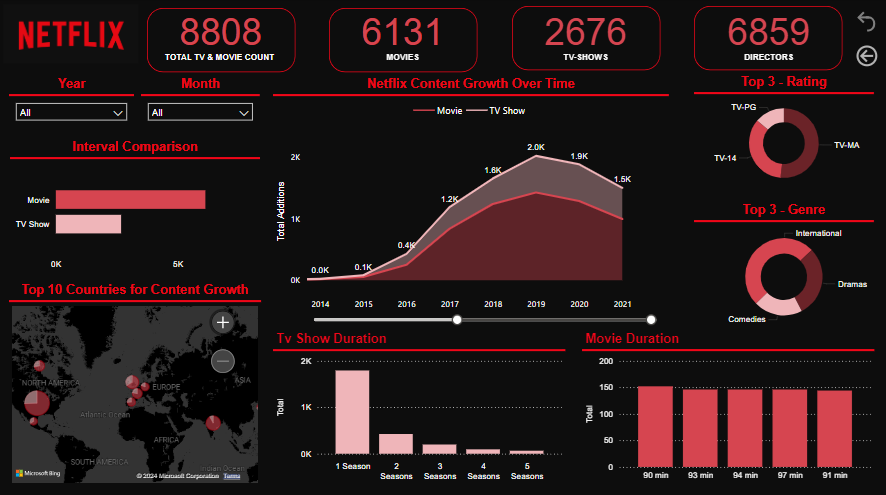

The page's visual inventory and layout, read from the dashboard file:
{"tool":"powerbi","page":{"name":"Page 1","canvas":[1280,720],"ordinal":0},"visuals":[{"type":"clusteredBarChart","title":"Interval Comparison","fields":{"Category":["netflix_titles.Type"],"Y":["CountNonNull(netflix_titles.Title)"]},"box":[15,203.8,360,196.2],"z":0},{"type":"slicer","title":"Year","fields":{"Values":["netflix_titles.Date_Added_Year"]},"box":[12.5,112.5,180,76.2],"z":1000},{"type":"slicer","title":"Month","fields":{"Values":["netflix_titles.Date_Added_Month"]},"box":[203.8,112.5,171.2,82.5],"z":2000},{"type":"shape","box":[0,0,1280,103.8],"z":3000},{"type":"image","box":[0,0,203.8,103.8],"z":4000},{"type":"stackedAreaChart","title":"Netflix Content Growth Over Time","fields":{"Y":["CountNonNull(netflix_titles.Type)"],"Category":["netflix_titles.Date_Added_Year"],"Series":["netflix_titles.Type"]},"box":[393.8,112.5,570,362.5],"z":5000},{"type":"shape","box":[211.2,13.8,213.8,92.5],"z":6000},{"type":"actionButton","box":[1228.8,13.8,38.8,38.8],"z":7000},{"type":"donutChart","title":"Top 3 - Rating ","fields":{"Category":["netflix_titles.Rating"],"Y":["CountNonNull(netflix_titles.Type)"]},"box":[1000,110,258.8,170],"z":8000},{"type":"donutChart","title":"Top 3 - Genre","fields":{"Y":["CountNonNull(netflix_genre.Genre)"],"Category":["netflix_genre.Genre"]},"box":[1000,293.8,258.8,186.2],"z":9000},{"type":"map","title":"Top 10 Countries for Content Growth","fields":{"Category":["netflix_country.Country"],"Size":["CountNonNull(netflix_country.Country)"],"Series":["netflix_titles.Type"]},"box":[12.5,408.8,362.5,295],"z":10000},{"type":"columnChart","title":"Tv Show Duration","fields":{"Category":["netflix_titles.Duration"],"Y":["CountNonNull(netflix_titles.Type)"]},"box":[393.8,480,421.2,223.8],"z":11000},{"type":"columnChart","title":"Movie Duration","fields":{"Category":["netflix_titles.Duration"],"Y":["CountNonNull(netflix_titles.Type)"]},"box":[837.5,480,421.2,223.8],"z":12000},{"type":"actionButton","box":[1228.8,63.8,40,40],"z":13000},{"type":"card","fields":{"Values":["Measures_Repository.Total_Titles"]},"box":[226.2,0,183.8,103.8],"z":14000},{"type":"shape","box":[474.2,13.8,213.8,92.5],"z":15000},{"type":"shape","box":[737.1,11.2,213.8,92.5],"z":16000},{"type":"shape","box":[1000,11.2,213.8,92.5],"z":17000},{"type":"card","fields":{"Values":["Measures_Repository.Total_Titles"]},"box":[488.8,0,183.8,103.8],"z":18000},{"type":"card","fields":{"Values":["Measures_Repository.Total_Titles"]},"box":[751.2,0,183.8,103.8],"z":19000},{"type":"card","fields":{"Values":["Measures_Repository.Total_Directors"]},"box":[1015,0,183.8,103.8],"z":20000}]}

Visuals, with their boxes in screenshot pixels (x1, y1, x2, y2), scaled from the page's 1280x720 canvas onto the 886x495 screenshot:
"Interval Comparison" clusteredBarChart: <box>10,140,260,275</box>
"Year" slicer: <box>9,77,133,130</box>
"Month" slicer: <box>141,77,260,134</box>
shape: <box>0,0,885,71</box>
image: <box>0,0,141,71</box>
"Netflix Content Growth Over Time" stackedAreaChart: <box>273,77,667,327</box>
shape: <box>146,9,294,73</box>
actionButton: <box>851,9,877,36</box>
"Top 3 - Rating " donutChart: <box>692,76,871,192</box>
"Top 3 - Genre" donutChart: <box>692,202,871,330</box>
"Top 10 Countries for Content Growth" map: <box>9,281,260,484</box>
"Tv Show Duration" columnChart: <box>273,330,564,484</box>
"Movie Duration" columnChart: <box>580,330,871,484</box>
actionButton: <box>851,44,878,71</box>
card - Measures_Repository.Total_Titles: <box>157,0,284,71</box>
shape: <box>328,9,476,73</box>
shape: <box>510,8,658,71</box>
shape: <box>692,8,840,71</box>
card - Measures_Repository.Total_Titles: <box>338,0,466,71</box>
card - Measures_Repository.Total_Titles: <box>520,0,647,71</box>
card - Measures_Repository.Total_Directors: <box>703,0,830,71</box>
